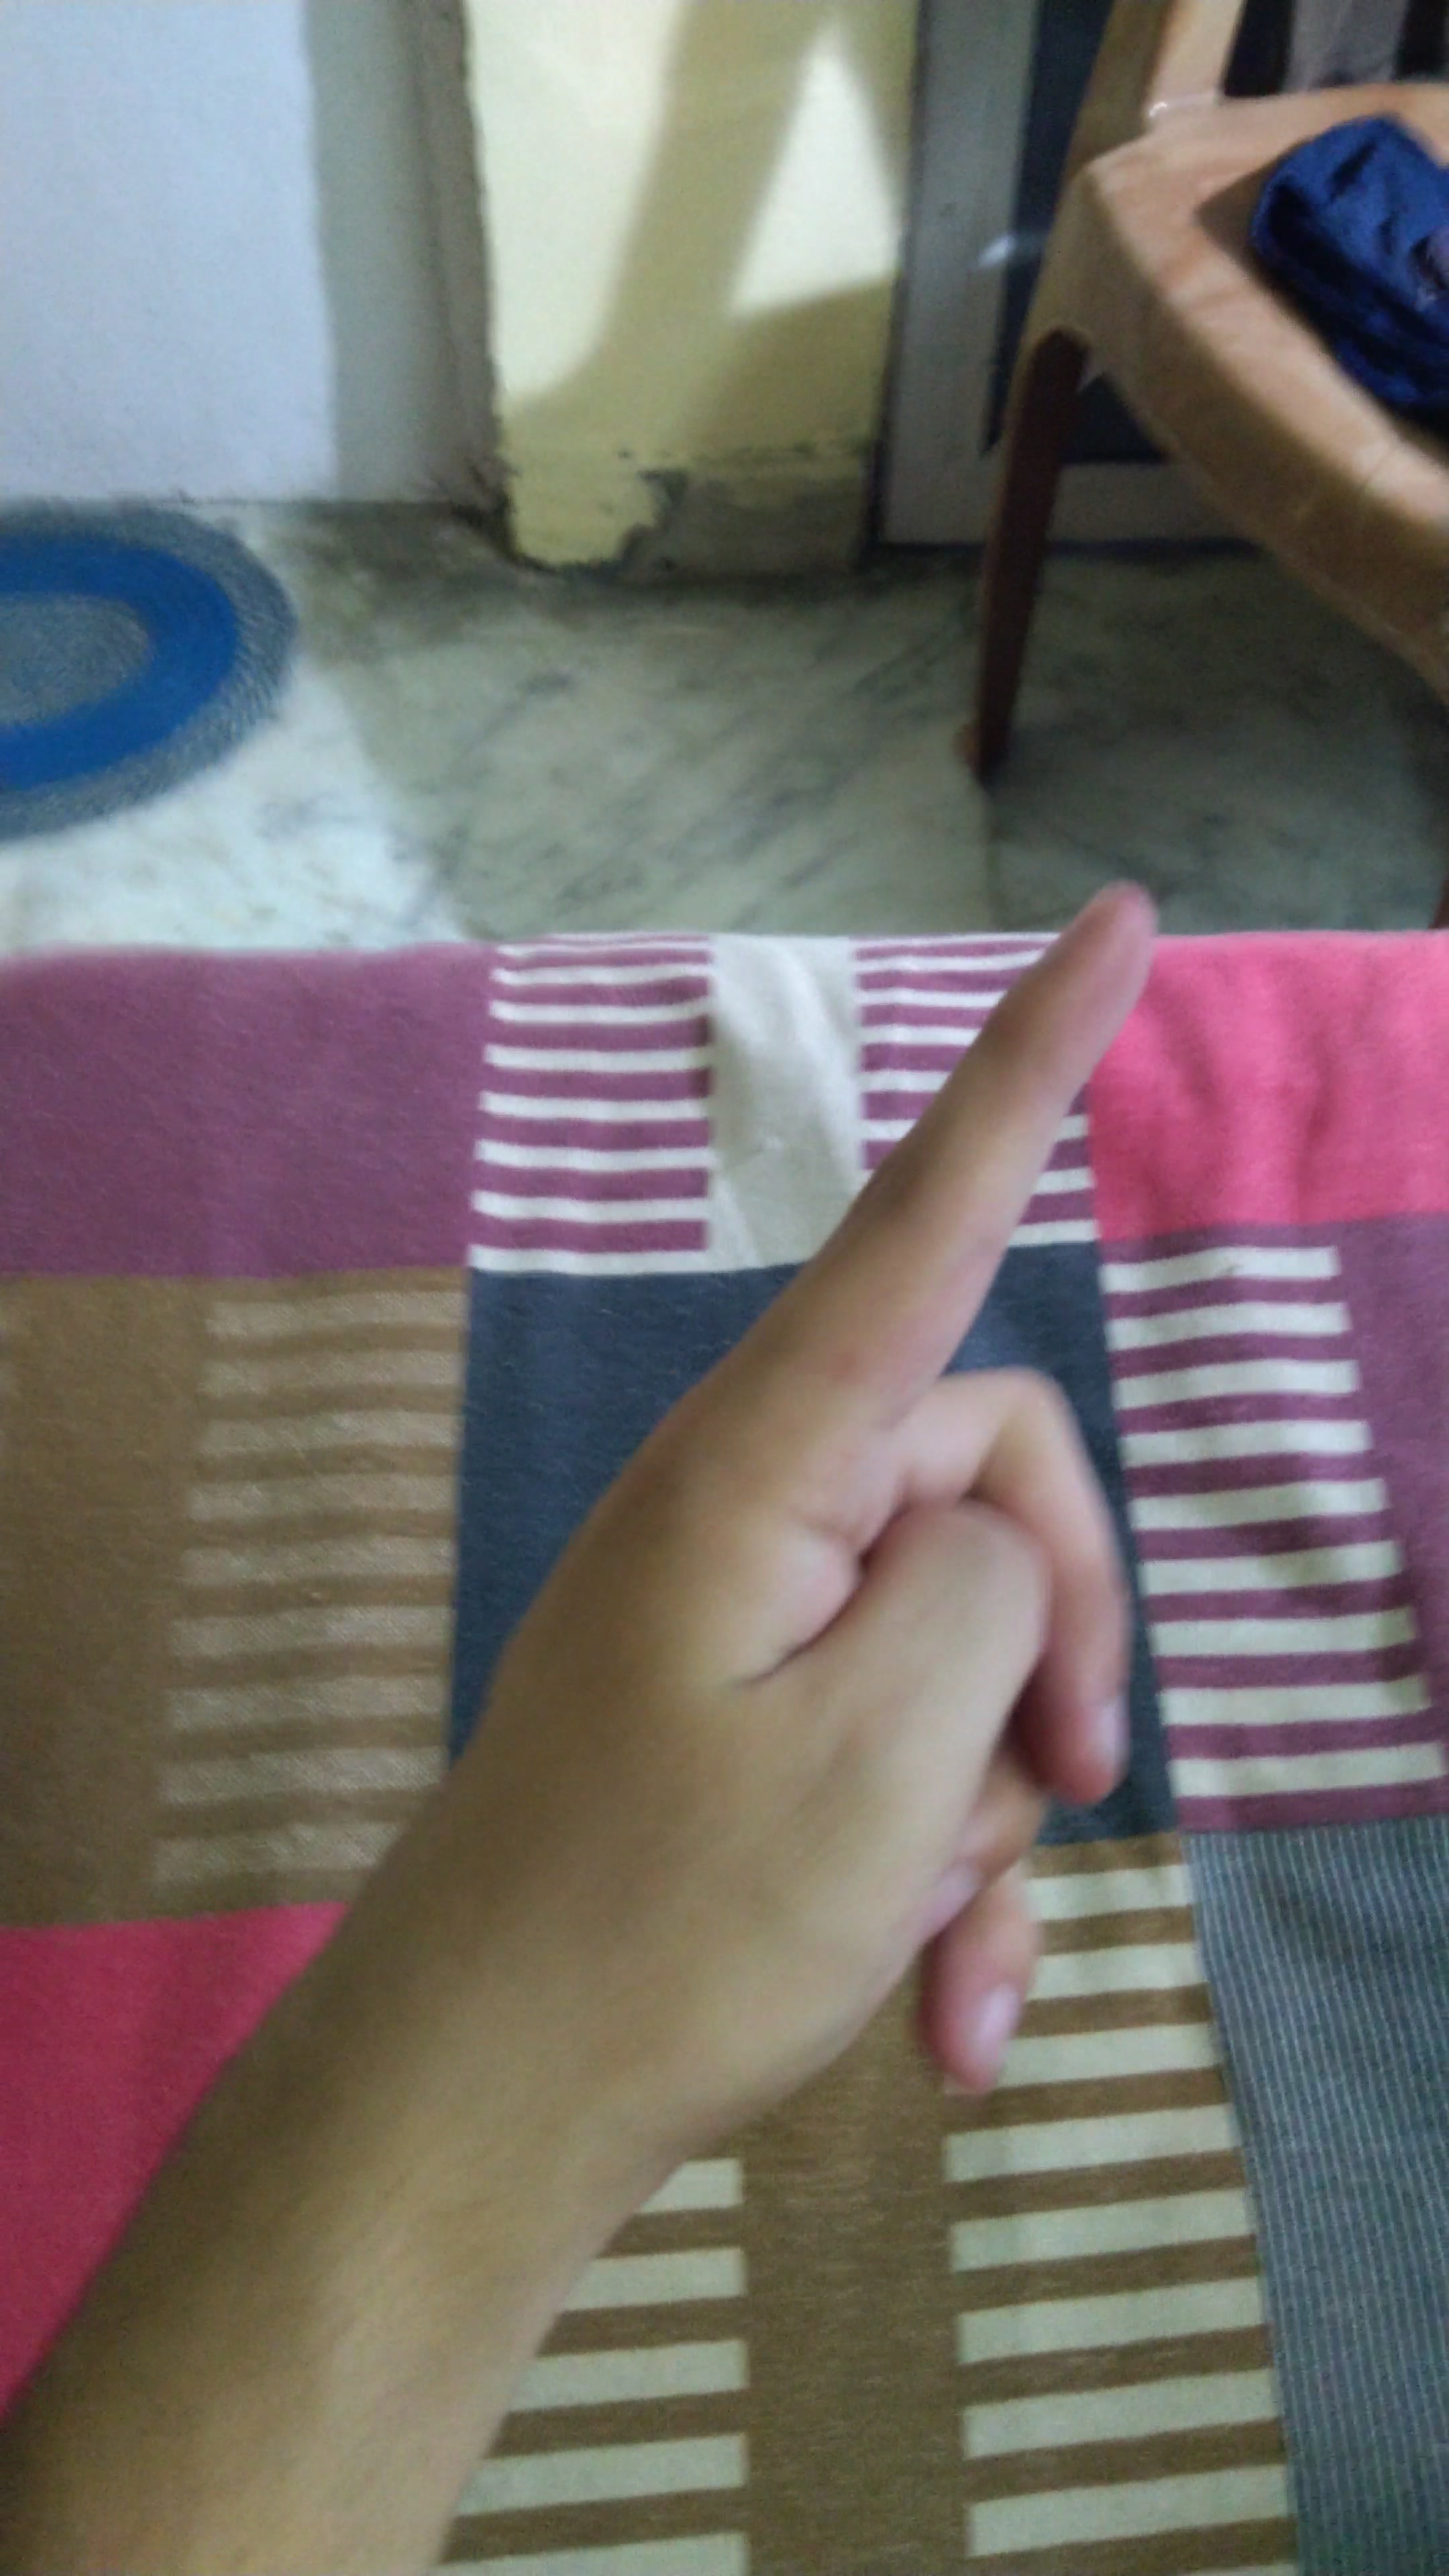hand: (349, 865, 1203, 2155)
